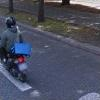Motorcycle: (2, 17, 40, 80)
